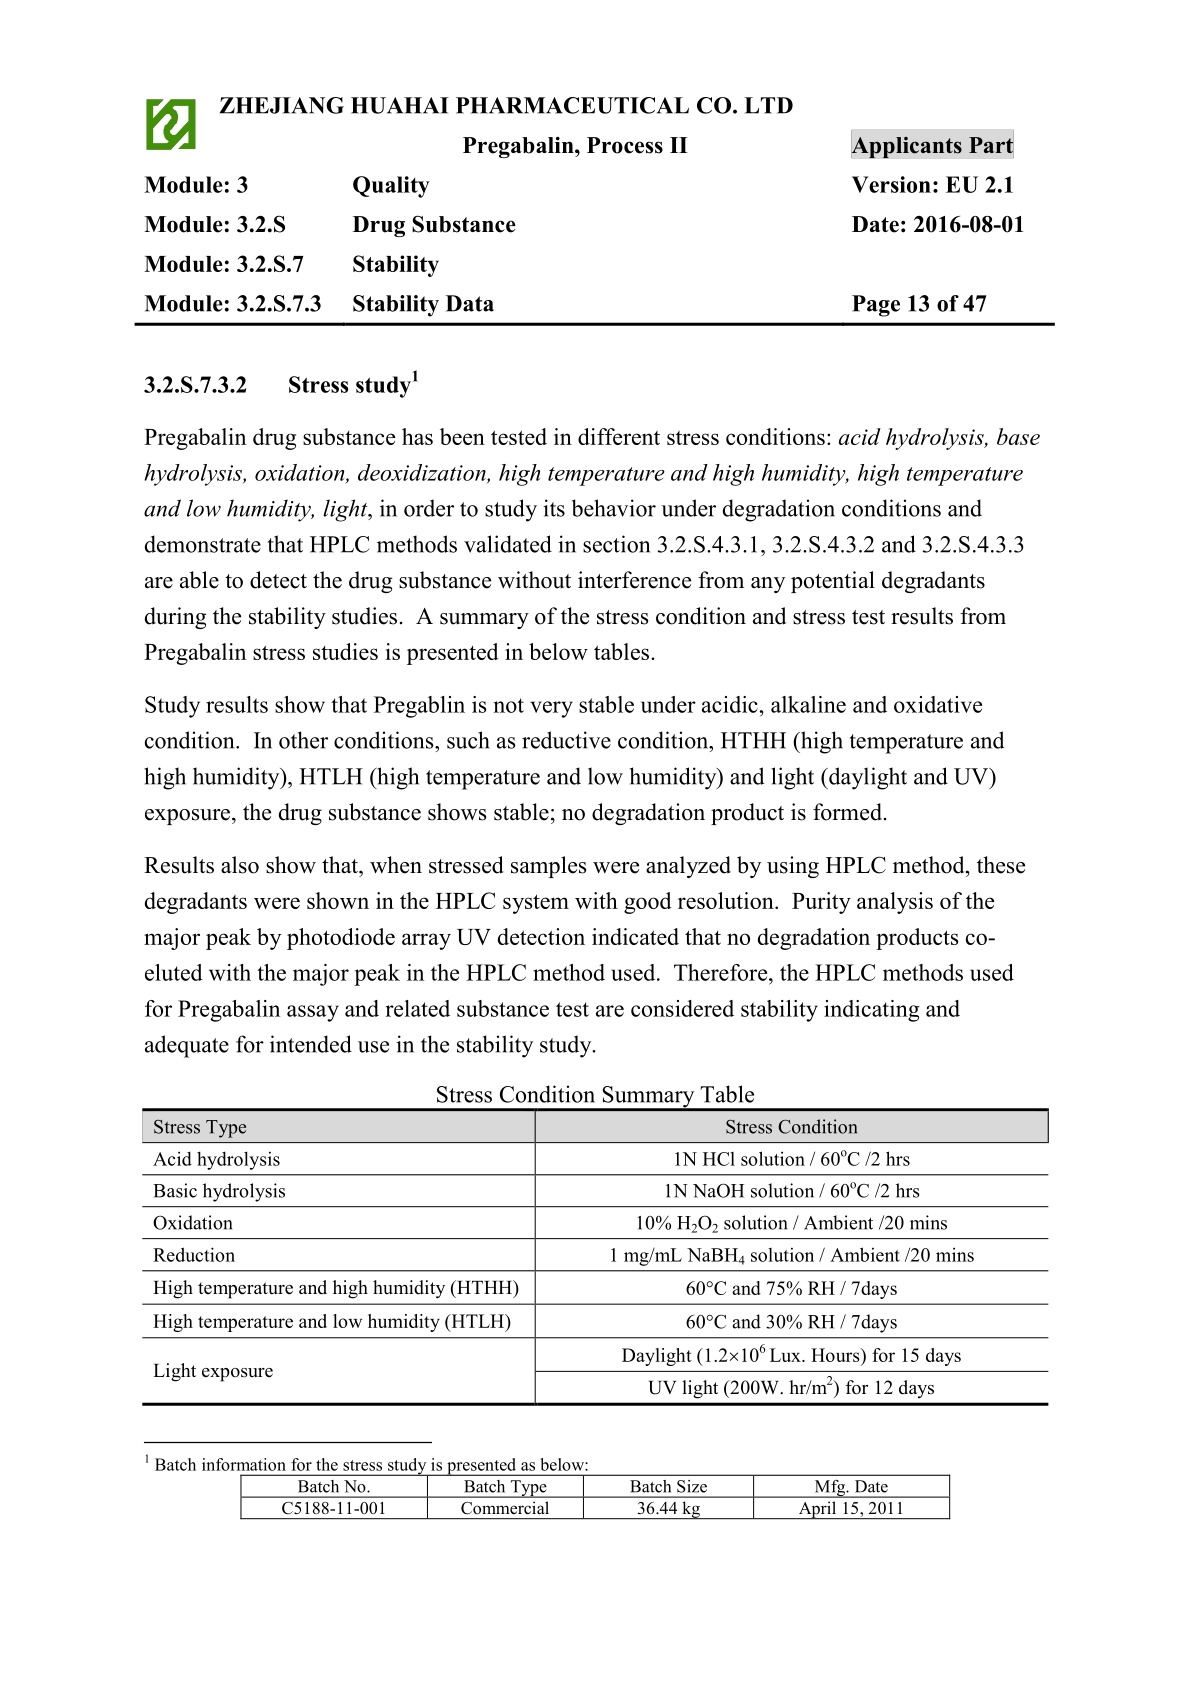full_lined: (240, 1474, 950, 1520)
partial_lined: (133, 122, 1056, 327)
partial_lined_merged_cells: (140, 1107, 1048, 1406)
